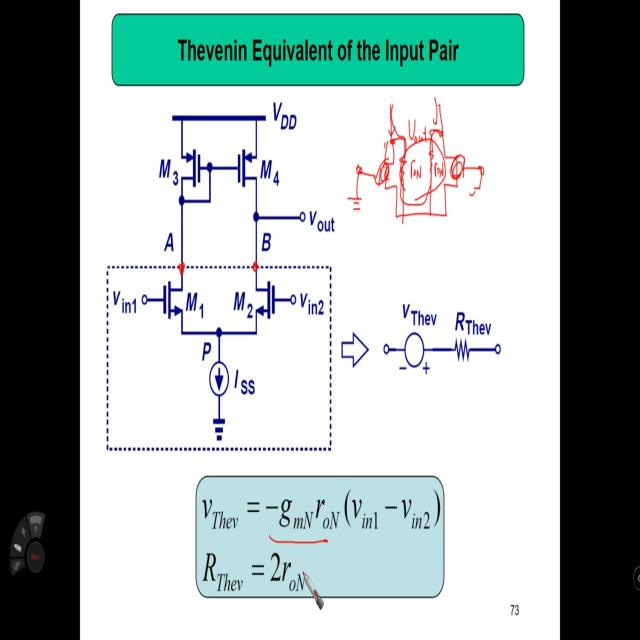panseo: (344, 87, 492, 252)
